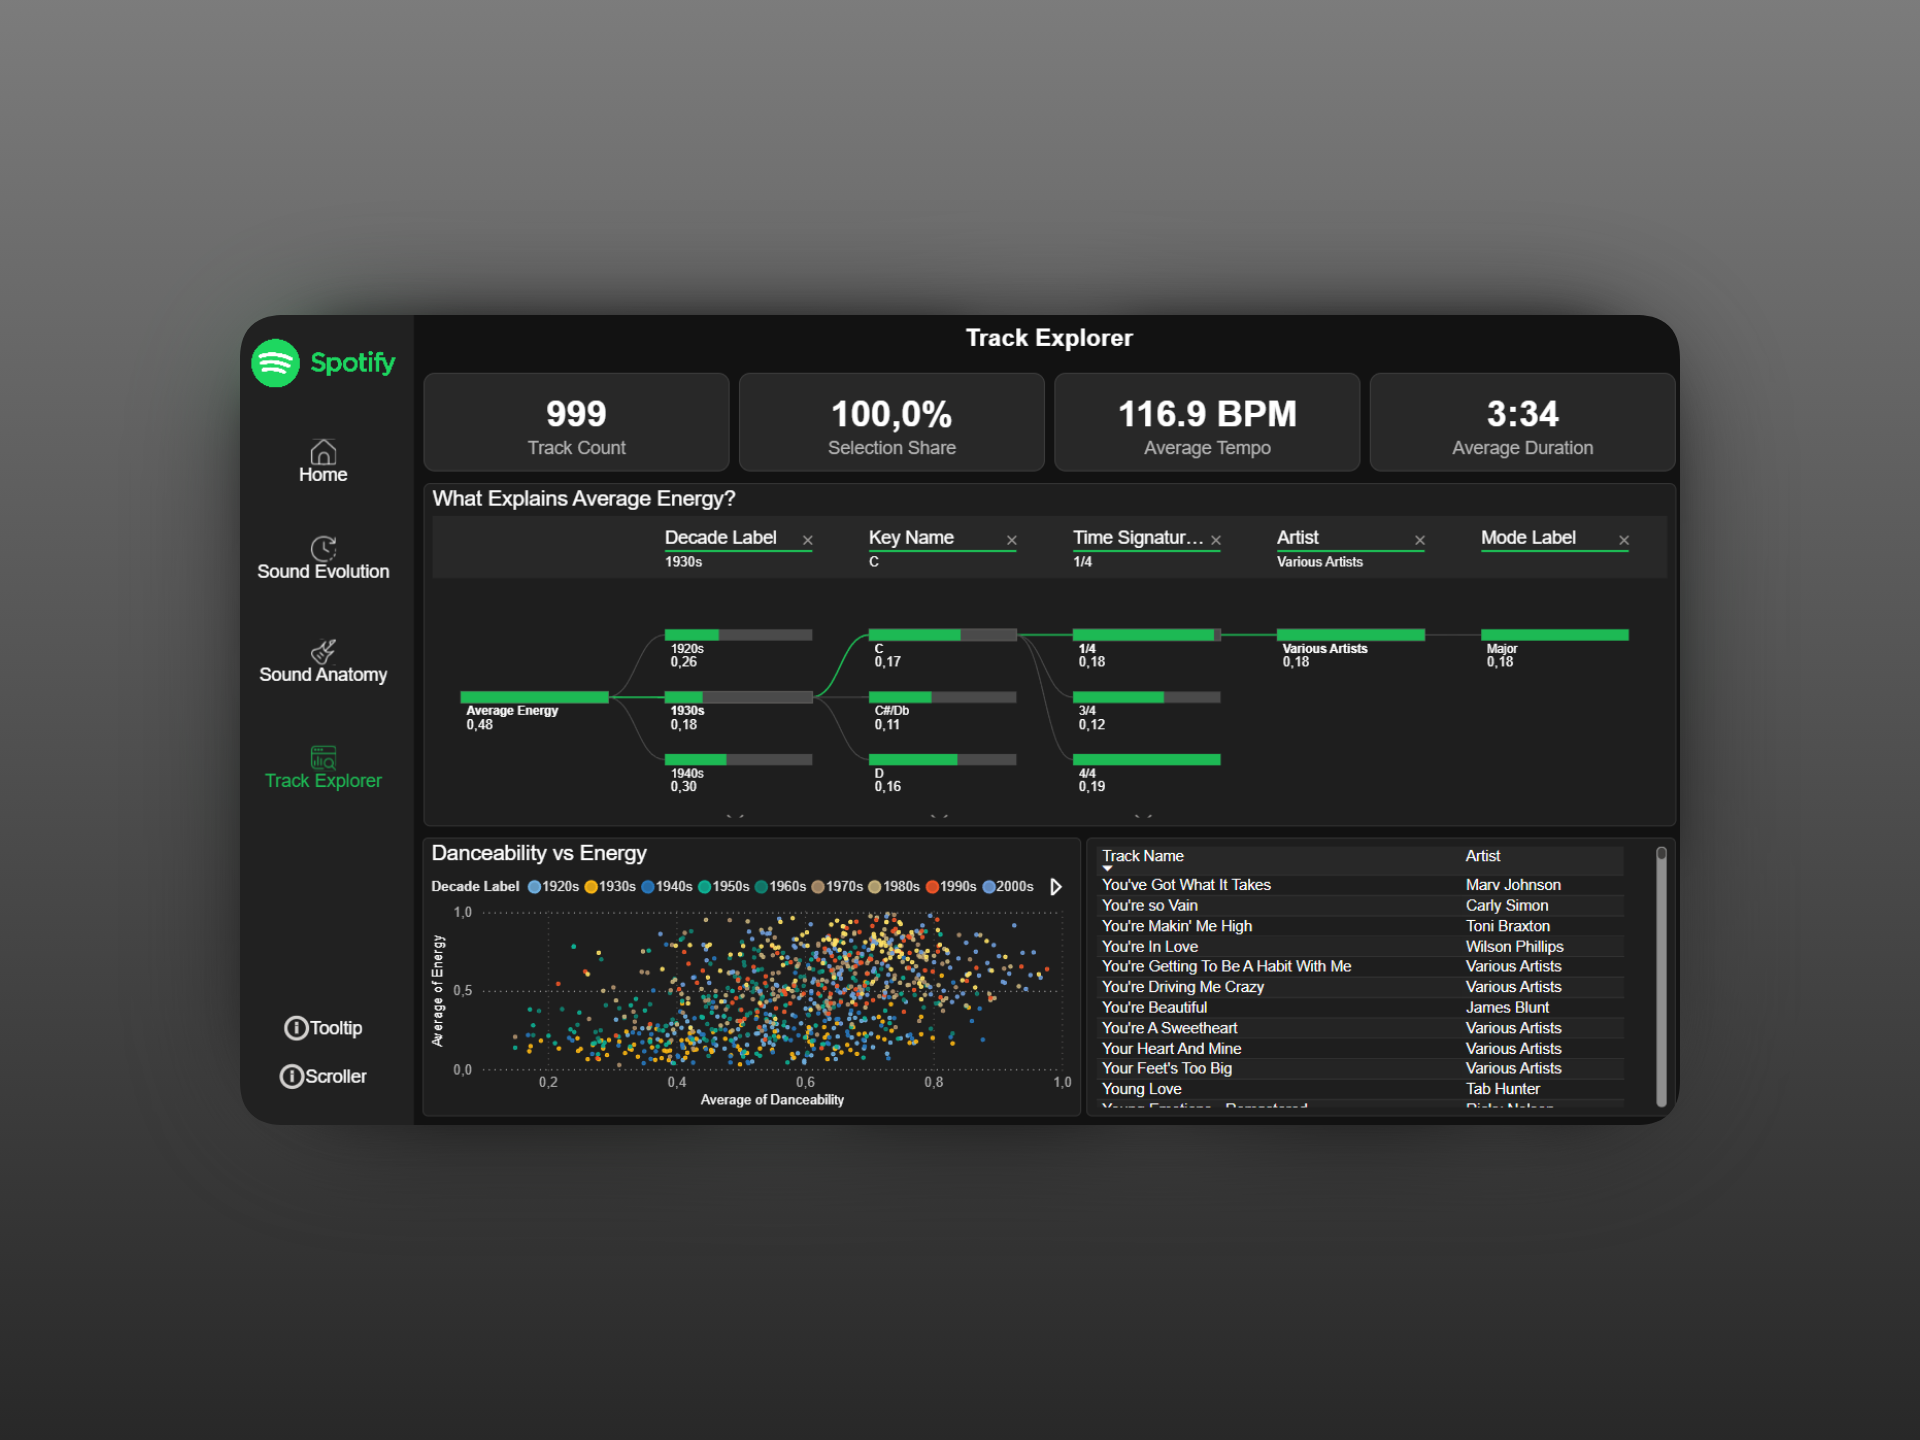

Layout of this report page (visuals, bound fields, positions):
{"tool":"powerbi","page":{"name":"Track Explorer","canvas":[1280,720],"ordinal":3},"visuals":[{"type":"card","fields":{"Values":["_Measures.Track Count"]},"box":[167.8,56.3,270.3,87.4],"z":0},{"type":"card","fields":{"Values":["_Measures.Selection Share"]},"box":[446.1,56.3,270.3,87.4],"z":1000},{"type":"card","fields":{"Values":["_Measures.Average Tempo Label"]},"box":[724.4,56.3,270.3,87.4],"z":2000},{"type":"card","fields":{"Values":["_Measures.Average Duration Label"]},"box":[1002.7,56.3,270.3,87.4],"z":3000},{"type":"shape","box":[0,0,159.7,720.4],"z":4000,"group":"g1"},{"type":"textbox","box":[159.7,9,1120.3,47.2],"z":4000},{"type":"actionButton","box":[0,109.5,159.7,53.2],"z":5000,"group":"g1"},{"type":"decompositionTreeVisual","title":"What Explains Average Energy?","fields":{"Analyze":["_Measures.Average Energy"],"ExplainBy":["Dim Decade.Decade Label","Dim Key.Key Name","Dim Time Signature.Time Signature Label","Songs.Artist","Dim Mode.Mode Label"]},"box":[167.8,153.7,1105.2,303.4],"z":5000},{"type":"actionButton","box":[0,194.9,159.7,53.2],"z":6000,"group":"g1"},{"type":"scatterChart","title":"Danceability vs Energy","fields":{"Category":["Songs.Song ID"],"X":["Avg(Songs.Danceability)"],"Y":["Avg(Songs.Energy)"],"Series":["Dim Decade.Decade Label"]},"box":[167.3,466.4,580.9,246.4],"z":6000},{"type":"group","id":"g1","title":"Grupa 2","box":[0,0,159.7,720.4],"z":7000},{"type":"actionButton","box":[0,285.3,159.7,53.2],"z":7000,"group":"g1"},{"type":"actionButton","box":[0,378.8,159.7,53.2],"z":8000,"group":"g1"},{"type":"tableEx","fields":{"Values":["Songs.Track Name","Songs.Artist"]},"box":[752.7,466.4,520,246.4],"z":8000},{"type":"actionButton","box":[0,607.8,159.7,53.2],"z":9000,"group":"g1"},{"type":"actionButton","box":[0,651.1,159.7,53.2],"z":10000,"group":"g1"},{"type":"image","box":[0,0,159.7,95.4],"z":11000,"group":"g1"}]}

Visuals, with their boxes on the page's 1280x720 design canvas (x1, y1, x2, y2). These are canvas units, not pixel positions in the 1920x1440 screenshot, which may show the page scaled, cropped or inside an application window:
card - _Measures.Track Count: BBox(168, 56, 438, 144)
card - _Measures.Selection Share: BBox(446, 56, 716, 144)
card - _Measures.Average Tempo Label: BBox(724, 56, 995, 144)
card - _Measures.Average Duration Label: BBox(1003, 56, 1273, 144)
shape: BBox(0, 0, 160, 720)
textbox: BBox(160, 9, 1280, 56)
actionButton: BBox(0, 110, 160, 163)
"What Explains Average Energy?" decompositionTreeVisual: BBox(168, 154, 1273, 457)
actionButton: BBox(0, 195, 160, 248)
"Danceability vs Energy" scatterChart: BBox(167, 466, 748, 713)
"Grupa 2" group: BBox(0, 0, 160, 720)
actionButton: BBox(0, 285, 160, 338)
actionButton: BBox(0, 379, 160, 432)
tableEx - Songs.Track Name x Songs.Artist: BBox(753, 466, 1273, 713)
actionButton: BBox(0, 608, 160, 661)
actionButton: BBox(0, 651, 160, 704)
image: BBox(0, 0, 160, 95)
